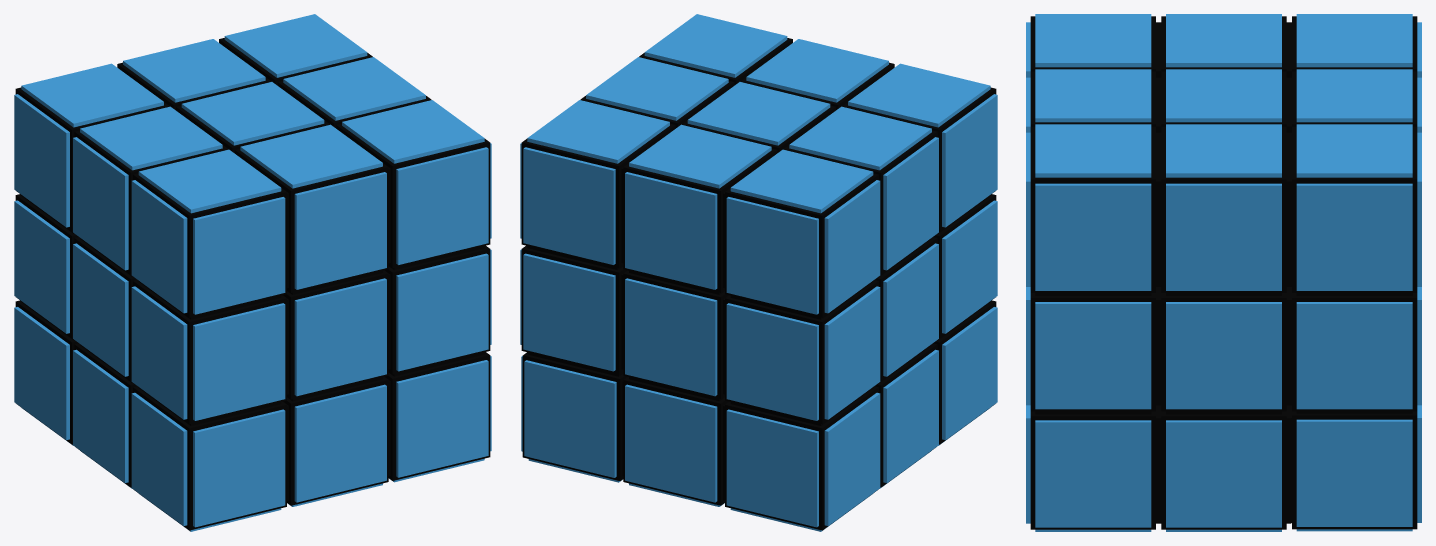
Rendered from RCube.fbx.
3 renders of one model, left to right at view 1: azimuth 30°, elevation 25°; view 2: azimuth 150°, elevation 25°; view 3: azimuth 270°, elevation 25°, orthographic. The views are drawn at different scales.
Parts seen in each view (by area): view 1: Cube.008, Cube.017, Cube.026, Cube.009, Cube.010, Cube.002, Cube.005, Cube.001, Cube.020, Cube.027, Cube.018, Cube.019 (+7 smaller); view 2: Cube.002, Cube.019, Cube.011, Cube.003, Cube.004, Cube.005, Cube.008, Cube.013, Cube.021, Cube.012, Cube.022, Cube.026 (+7 smaller); view 3: Cube.004, Cube.007, Cube.010, Cube.001, Cube.013, Cube.016, Cube.025, Cube.020, Cube.022, Cube.006, Cube.002, Cube.005 (+3 smaller).
Boxes of the visible parts, left/top/right/bottom form: Cube.008: left=131, top=149, right=288, bottom=318; Cube.017: left=131, top=280, right=288, bottom=425; Cube.026: left=131, top=386, right=288, bottom=531; Cube.009: left=234, top=124, right=389, bottom=294; Cube.010: left=336, top=100, right=491, bottom=269; Cube.002: left=14, top=63, right=169, bottom=233; Cube.005: left=73, top=106, right=228, bottom=276; Cube.001: left=384, top=352, right=491, bottom=482; Cube.020: left=384, top=245, right=491, bottom=375; Cube.027: left=283, top=377, right=389, bottom=506; Cube.018: left=283, top=270, right=389, bottom=400; Cube.019: left=14, top=300, right=78, bottom=445; Cube.002: left=723, top=149, right=880, bottom=319; Cube.019: left=723, top=386, right=880, bottom=531; Cube.011: left=723, top=280, right=880, bottom=424; Cube.003: left=622, top=124, right=777, bottom=294; Cube.004: left=520, top=100, right=675, bottom=269; Cube.005: left=783, top=106, right=938, bottom=276; Cube.008: left=842, top=63, right=997, bottom=232; Cube.013: left=520, top=245, right=627, bottom=375; Cube.021: left=622, top=377, right=728, bottom=506; Cube.012: left=622, top=270, right=728, bottom=400; Cube.022: left=521, top=352, right=627, bottom=482; Cube.026: left=933, top=300, right=997, bottom=445; Cube.004: left=1287, top=124, right=1421, bottom=295; Cube.007: left=1156, top=124, right=1291, bottom=295; Cube.010: left=1026, top=124, right=1160, bottom=295; Cube.001: left=1026, top=405, right=1160, bottom=531; Cube.013: left=1287, top=287, right=1421, bottom=413; Cube.016: left=1156, top=287, right=1291, bottom=413; Cube.025: left=1156, top=405, right=1291, bottom=531; Cube.020: left=1026, top=287, right=1160, bottom=413; Cube.022: left=1287, top=405, right=1421, bottom=531; Cube.006: left=1156, top=69, right=1291, bottom=132; Cube.002: left=1287, top=14, right=1421, bottom=77; Cube.005: left=1156, top=14, right=1291, bottom=77.
Size of the model in its own units: 592 by 592 by 592.
